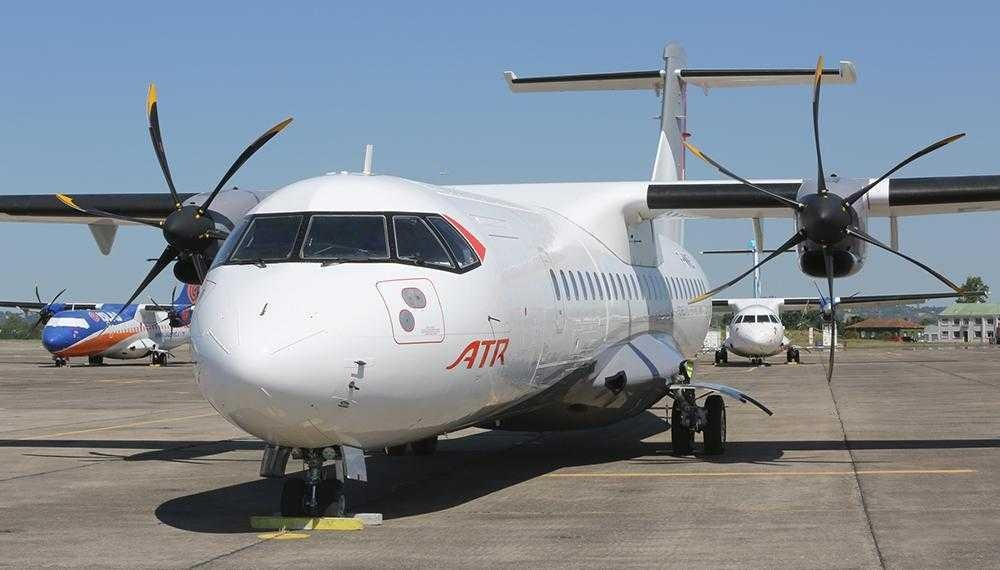aircraft: (18, 43, 995, 517)
